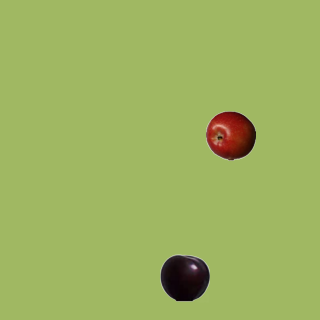Apple Braeburn: (205, 110, 255, 160)
Cherry Wax Black: (159, 252, 209, 302)
